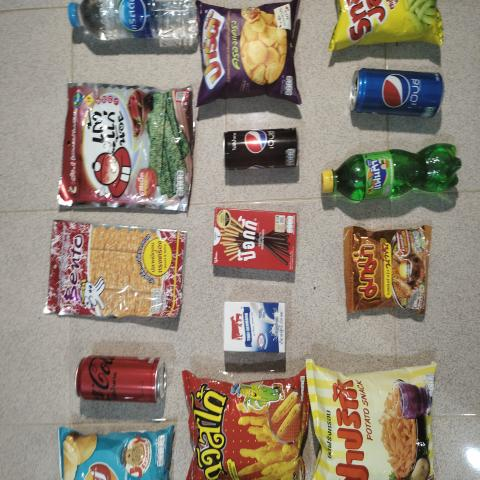bento_red: (44, 219, 184, 323)
coke_red: (80, 349, 167, 398)
crystal: (63, 0, 199, 59)
fanta_green: (321, 131, 462, 212)
mama: (346, 221, 430, 317)
paprika: (310, 367, 430, 480)
party_purple: (203, 0, 293, 96)
pepsi_black: (220, 122, 302, 174)
pepsi_blue: (350, 69, 450, 117)
pokki: (217, 210, 295, 274)
taokaenoi: (70, 89, 185, 214)
thai_denmark: (225, 295, 285, 364)
twisco: (192, 376, 302, 480)
